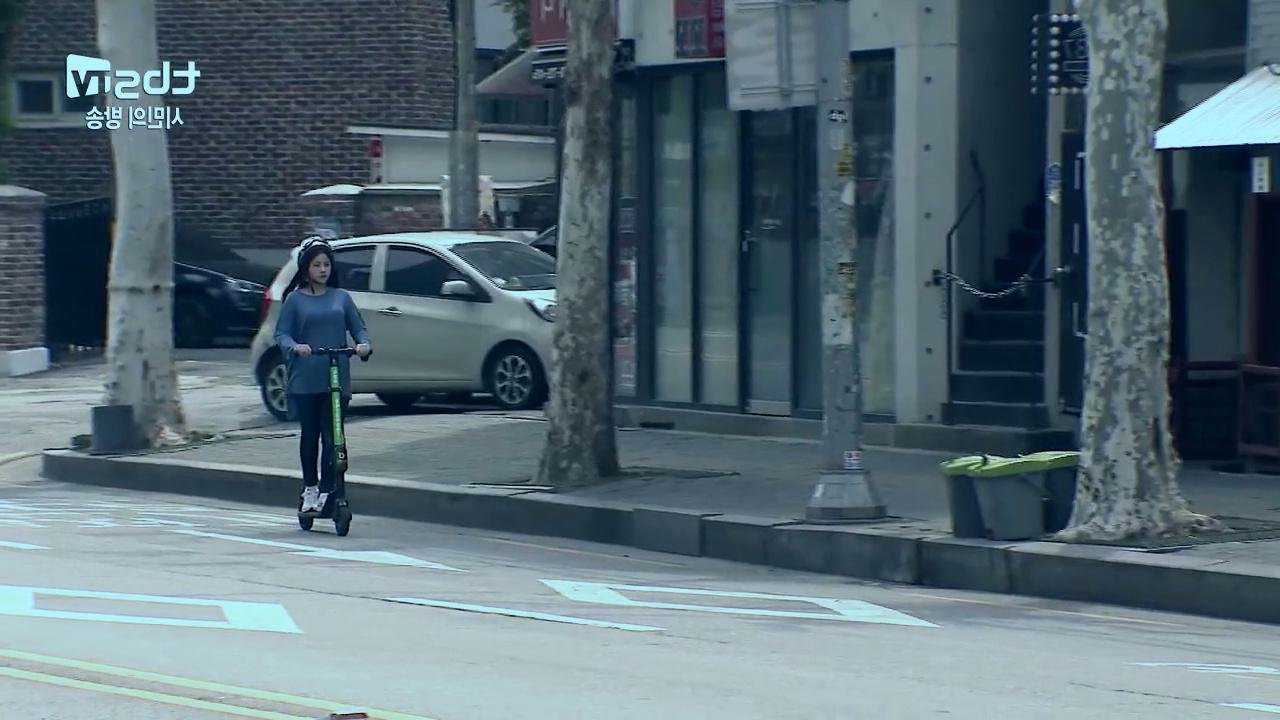helmet: (272, 233, 374, 536)
